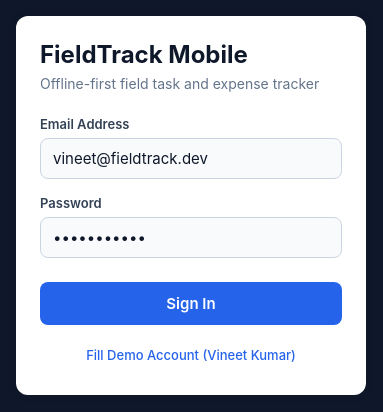
LoginScreen › populates demo credentials when tapping demo account button
This screenshot has width=383, height=412.
Clear the field with test id "login-email-input": (191, 158) x1=40 y1=138 x2=342 y2=178
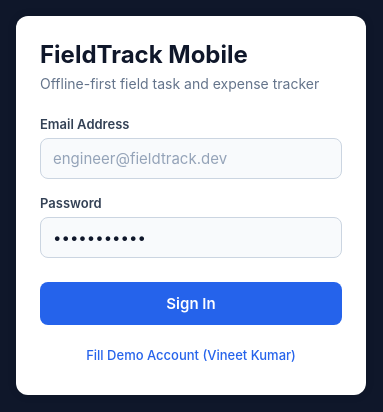
Clear the password field with test id "login-password-input": (191, 237) x1=40 y1=216 x2=342 y2=258
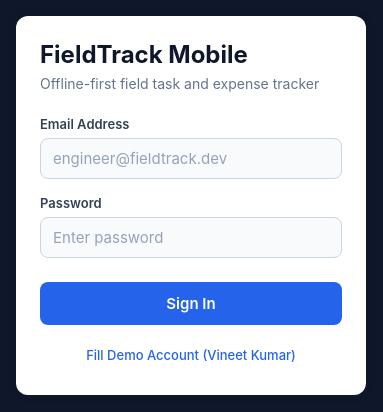
Click the element with test id "login-demo-button": (191, 354) x1=86 y1=346 x2=296 y2=362
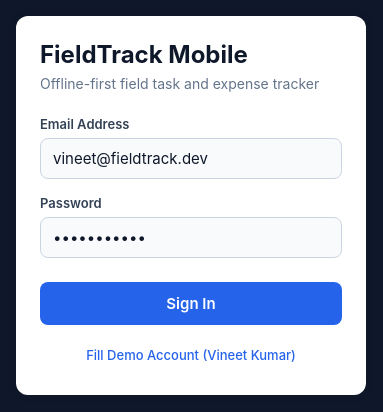
Now the field with test id "login-email-input" holds "vineet@fieldtrack.dev", box x1=40 y1=138 x2=342 y2=178
Now the password field with test id "login-password-input" holds "password123", box x1=40 y1=216 x2=342 y2=258
